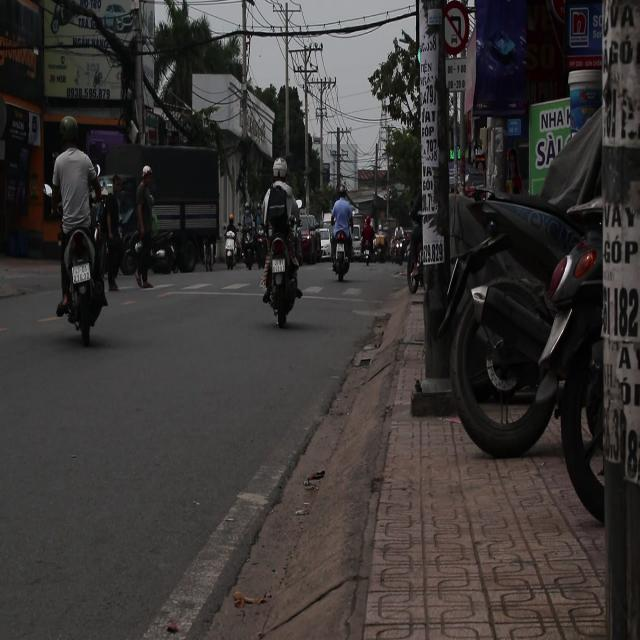car: (299, 213, 321, 262)
motorbike: (41, 162, 114, 377), (260, 235, 304, 328), (324, 212, 352, 302), (218, 209, 241, 286), (239, 214, 254, 287), (360, 222, 377, 284)
truck: (100, 144, 220, 273)
